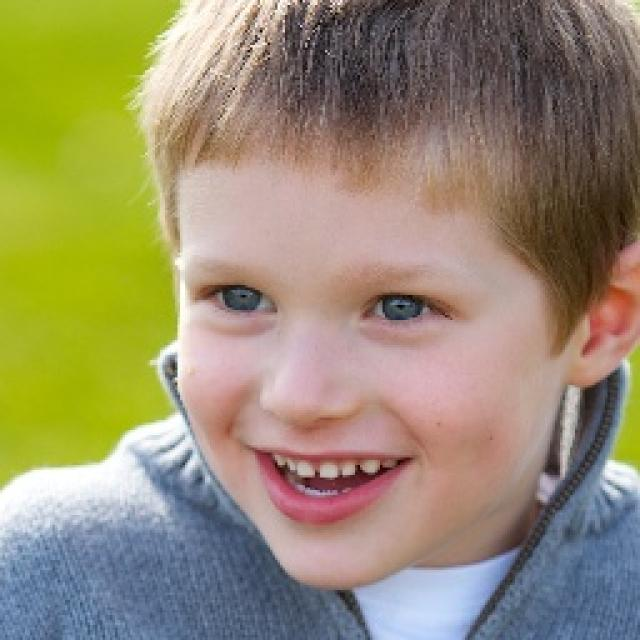earlobe: (566, 348, 604, 391)
eye: (197, 280, 274, 320), (364, 292, 446, 325)
nose: (262, 412, 356, 442)
wholeear: (566, 242, 640, 390)
